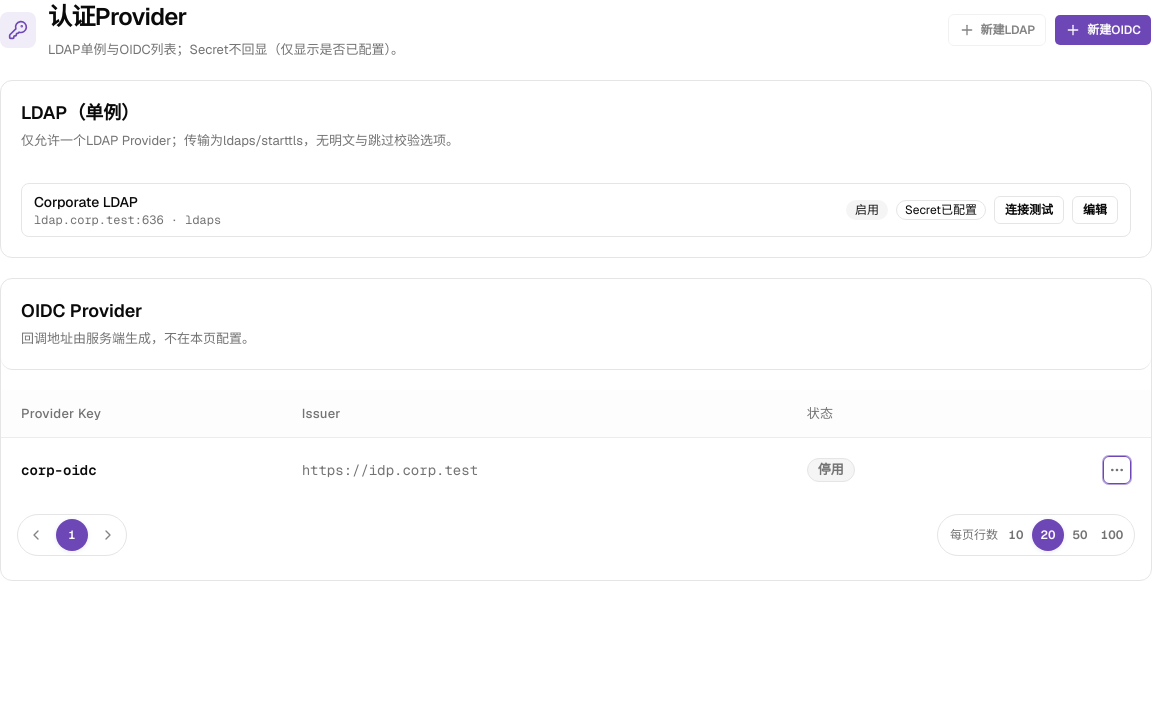
review R1 fixes › H-1: editing an OIDC provider without retyping the secret keeps it (no empty replacement)
This screenshot has width=1152, height=720.
Press Enter
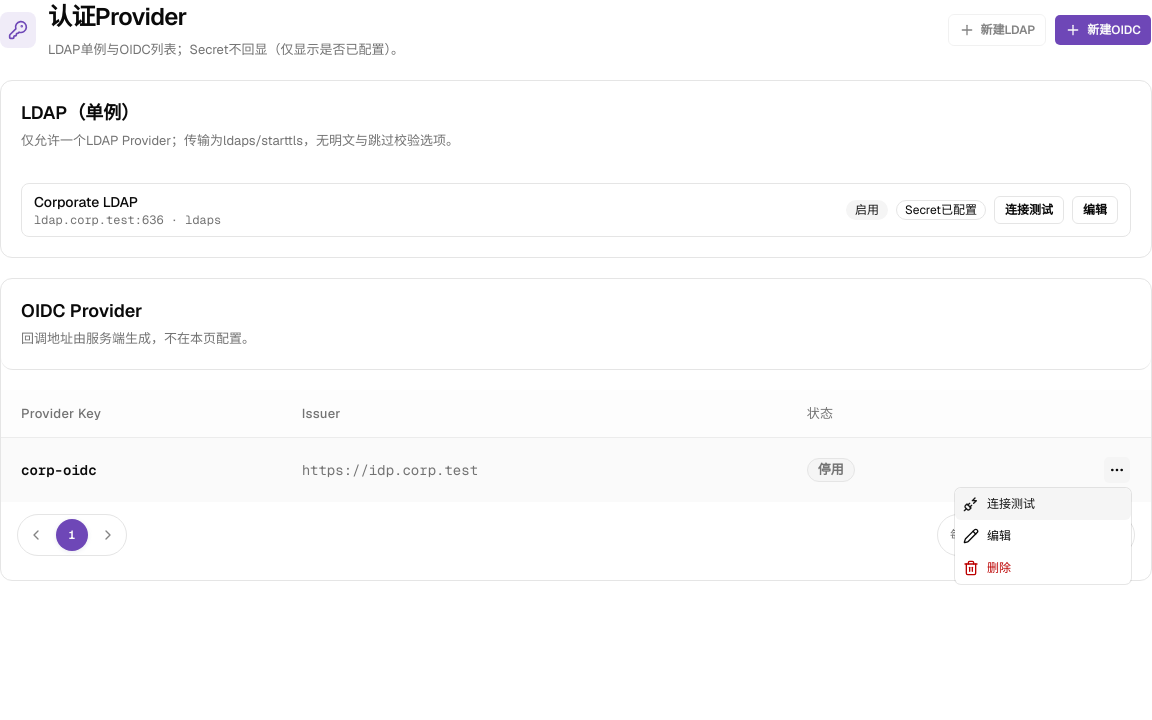
Click the menu item "编辑": click(987, 536) [963,528,1011,544]
(page scrolled)
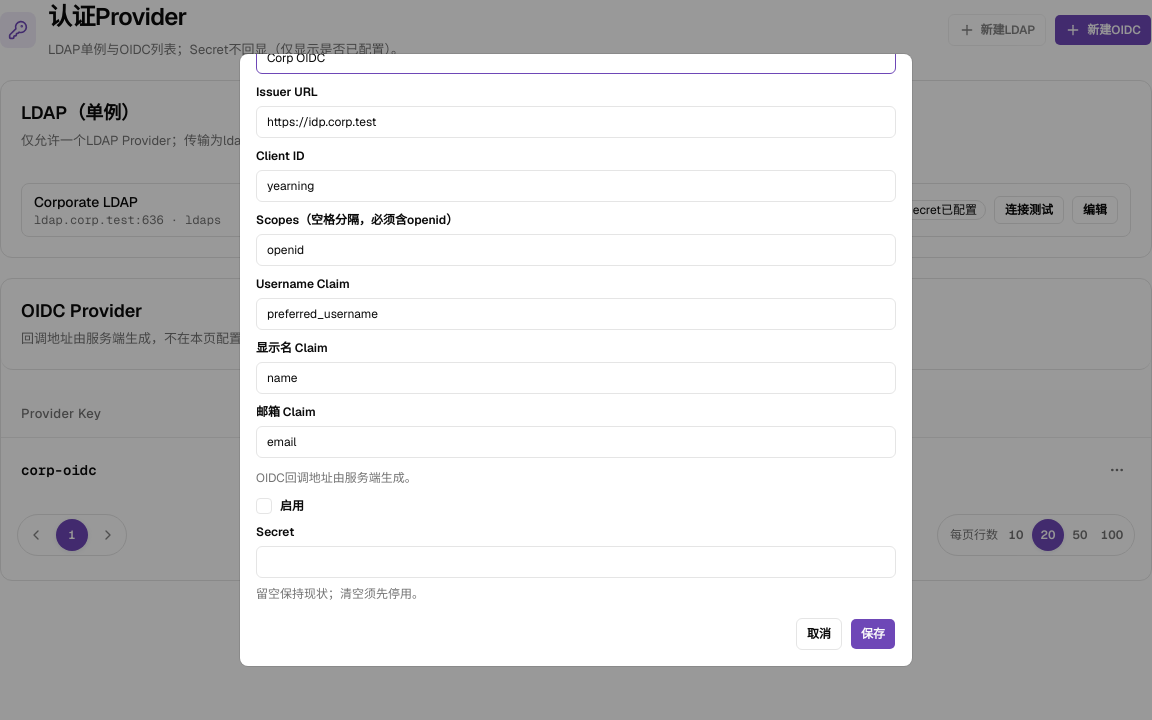
Expected: the password field with test id "idp-secret" is empty, [256,546,896,578]
Click the button with test id "idp-form-submit": click(873, 634) [850,618,896,650]
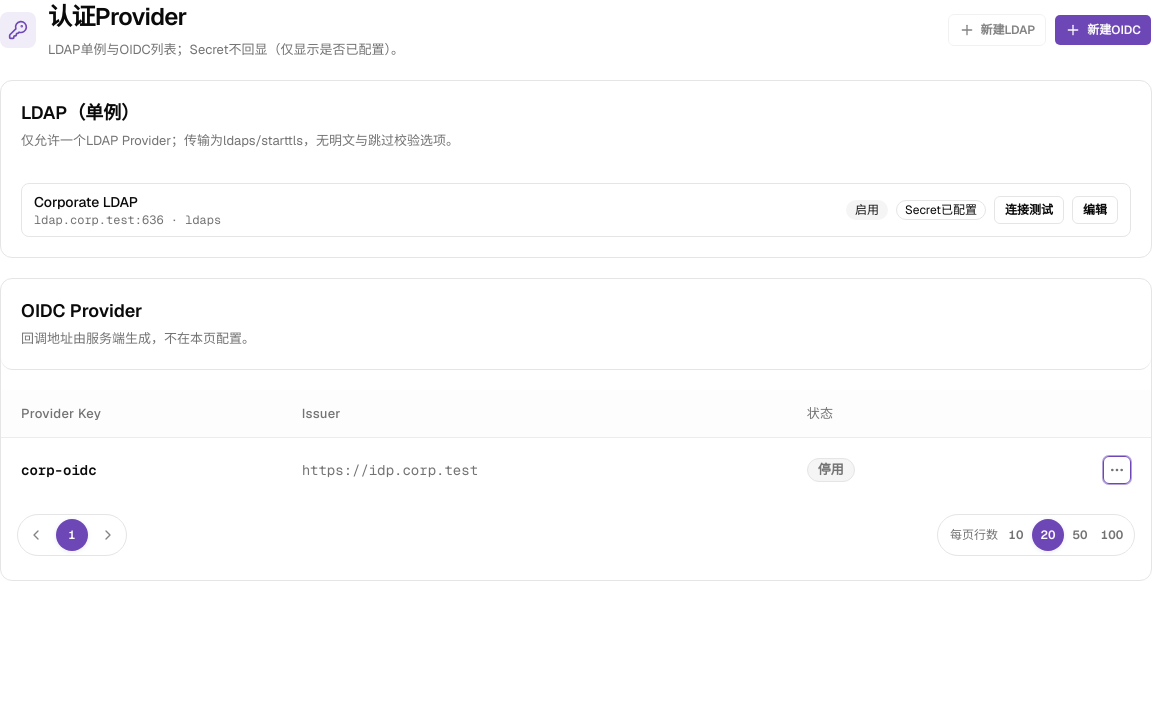
Expected: the dialog is gone
